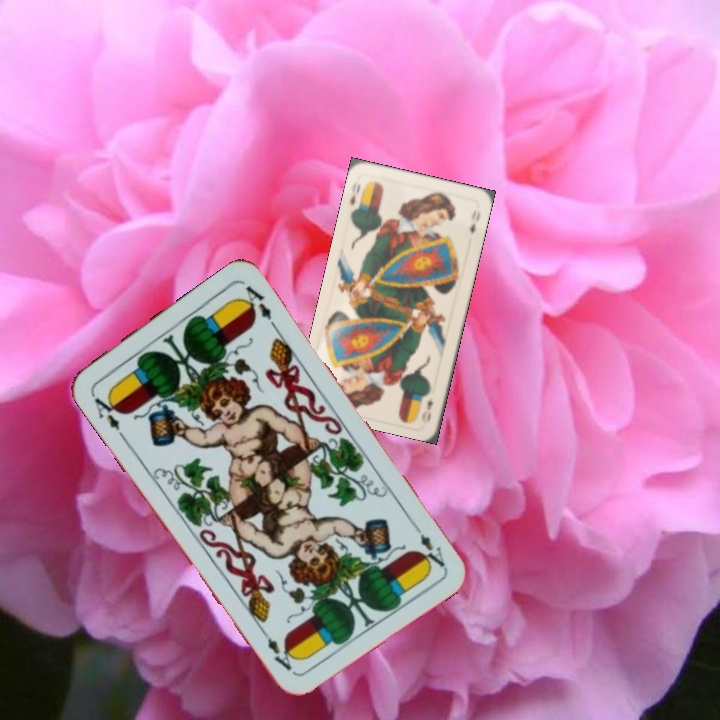EA: (408, 518, 448, 571), (90, 389, 125, 433)
EO: (346, 178, 369, 215), (417, 393, 436, 426)
